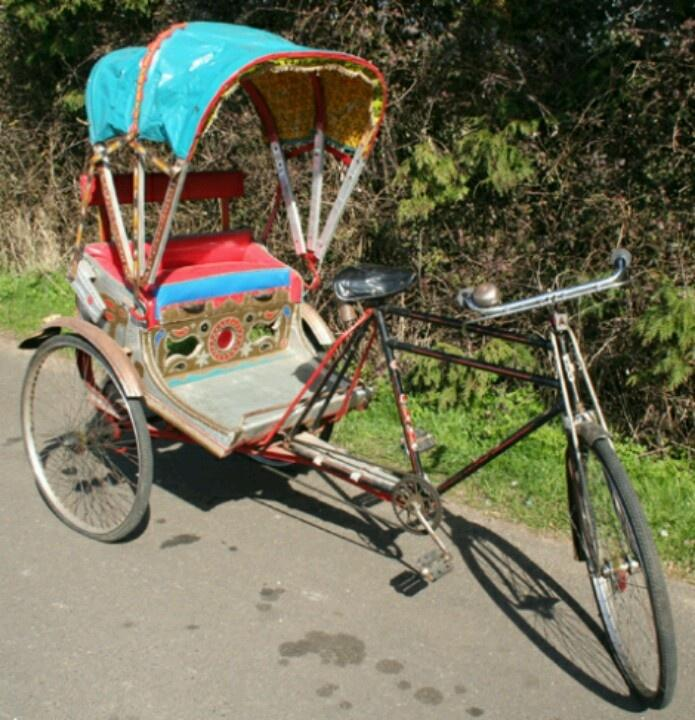Rickshaw: (22, 22, 675, 705)
